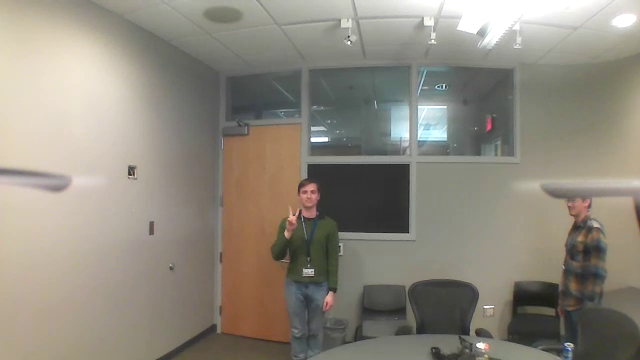peace: (283, 203, 302, 235)
